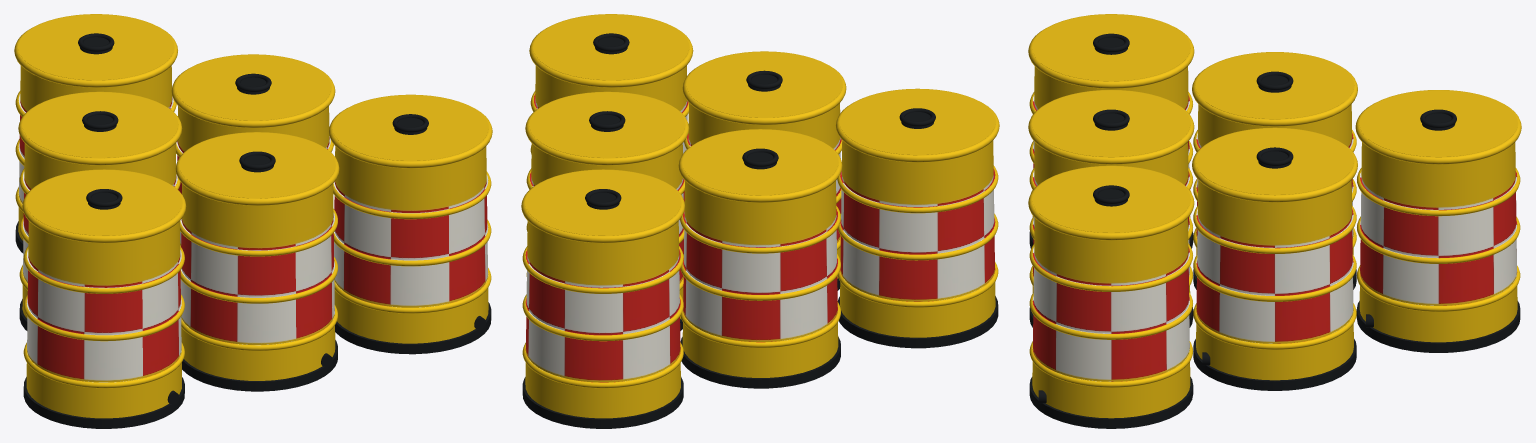
The picture shows the model from 3 angles, left to right: view 1: azimuth 30°, elevation 25°; view 2: azimuth 150°, elevation 25°; view 3: azimuth 270°, elevation 25°; orthographic projection.
Visible parts, largest first — view 1: opt_layout_wedge5, opt_layout_v3, opt_layout_single; view 2: opt_layout_wedge5, opt_layout_v3, opt_layout_single; view 3: opt_layout_wedge5, opt_layout_v3, opt_layout_single.
Boxes of the visible parts, left/top/right/bottom form: opt_layout_wedge5: left=22, top=94, right=492, bottom=428; opt_layout_v3: left=18, top=54, right=335, bottom=330; opt_layout_single: left=14, top=14, right=177, bottom=253; opt_layout_wedge5: left=529, top=14, right=999, bottom=348; opt_layout_v3: left=525, top=91, right=842, bottom=388; opt_layout_single: left=521, top=169, right=685, bottom=428; opt_layout_wedge5: left=1028, top=14, right=1194, bottom=428; opt_layout_v3: left=1192, top=52, right=1357, bottom=390; opt_layout_single: left=1355, top=90, right=1521, bottom=352.
Size of the model in its own units: 1.99 by 0.8445 by 1.87.
3 materials, 1 textured.
